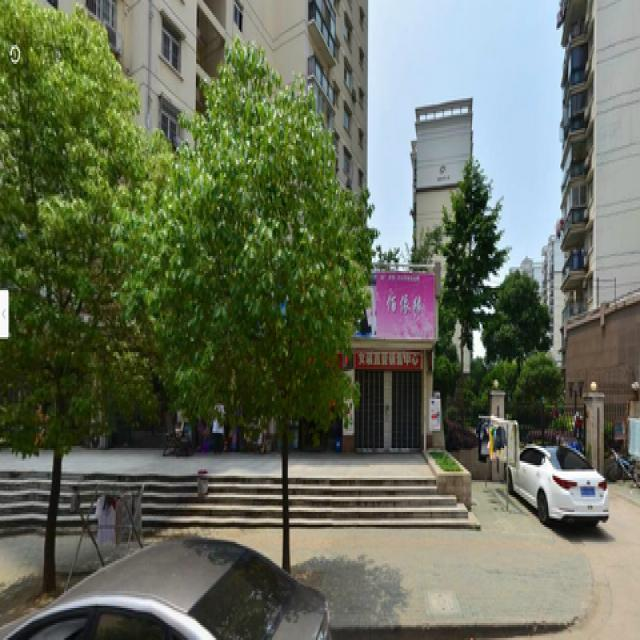cinn: (204, 111, 335, 580), (4, 28, 111, 557)
